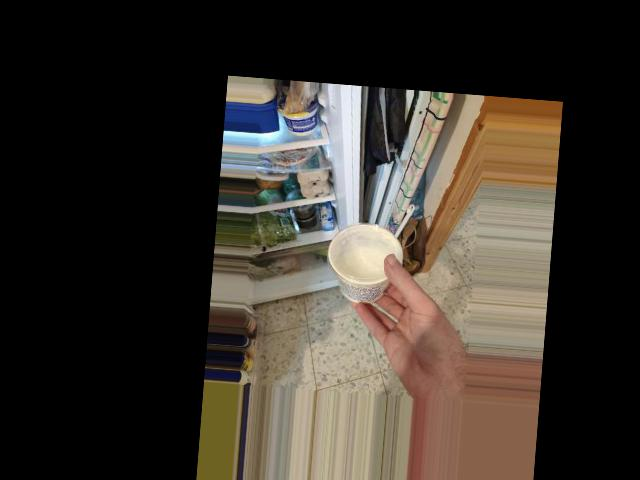cotage: (335, 212, 394, 308)
